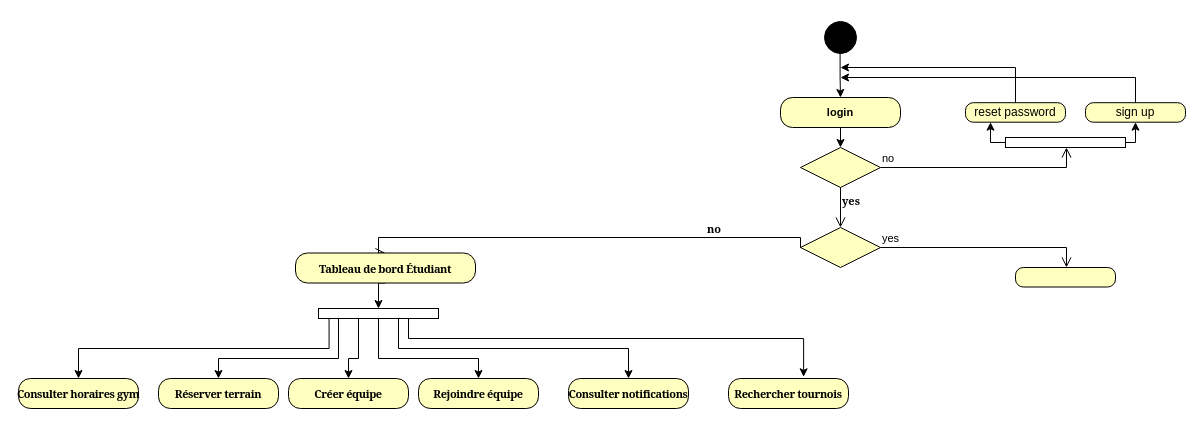
Image size: 1203x426. Some labels were removed from this diagram. Here are the shapes that lost their labels. From the top down, the box of each, then its label:
(800, 146, 880, 188): Connecté?
(800, 226, 880, 268): Admin ?
